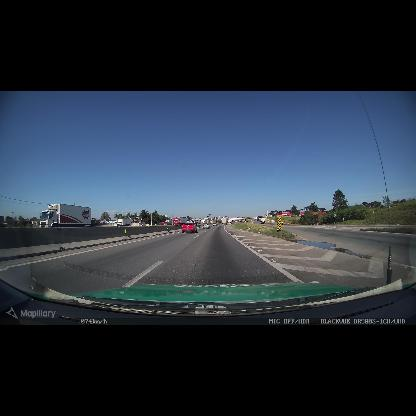O-MP: (277, 216, 282, 230)
R-24a: (333, 213, 336, 217)
